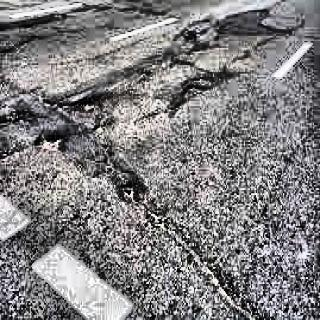crack: (112, 175, 277, 320)
pothole: (213, 5, 294, 40), (56, 74, 121, 114), (170, 67, 227, 109), (34, 130, 68, 156)
